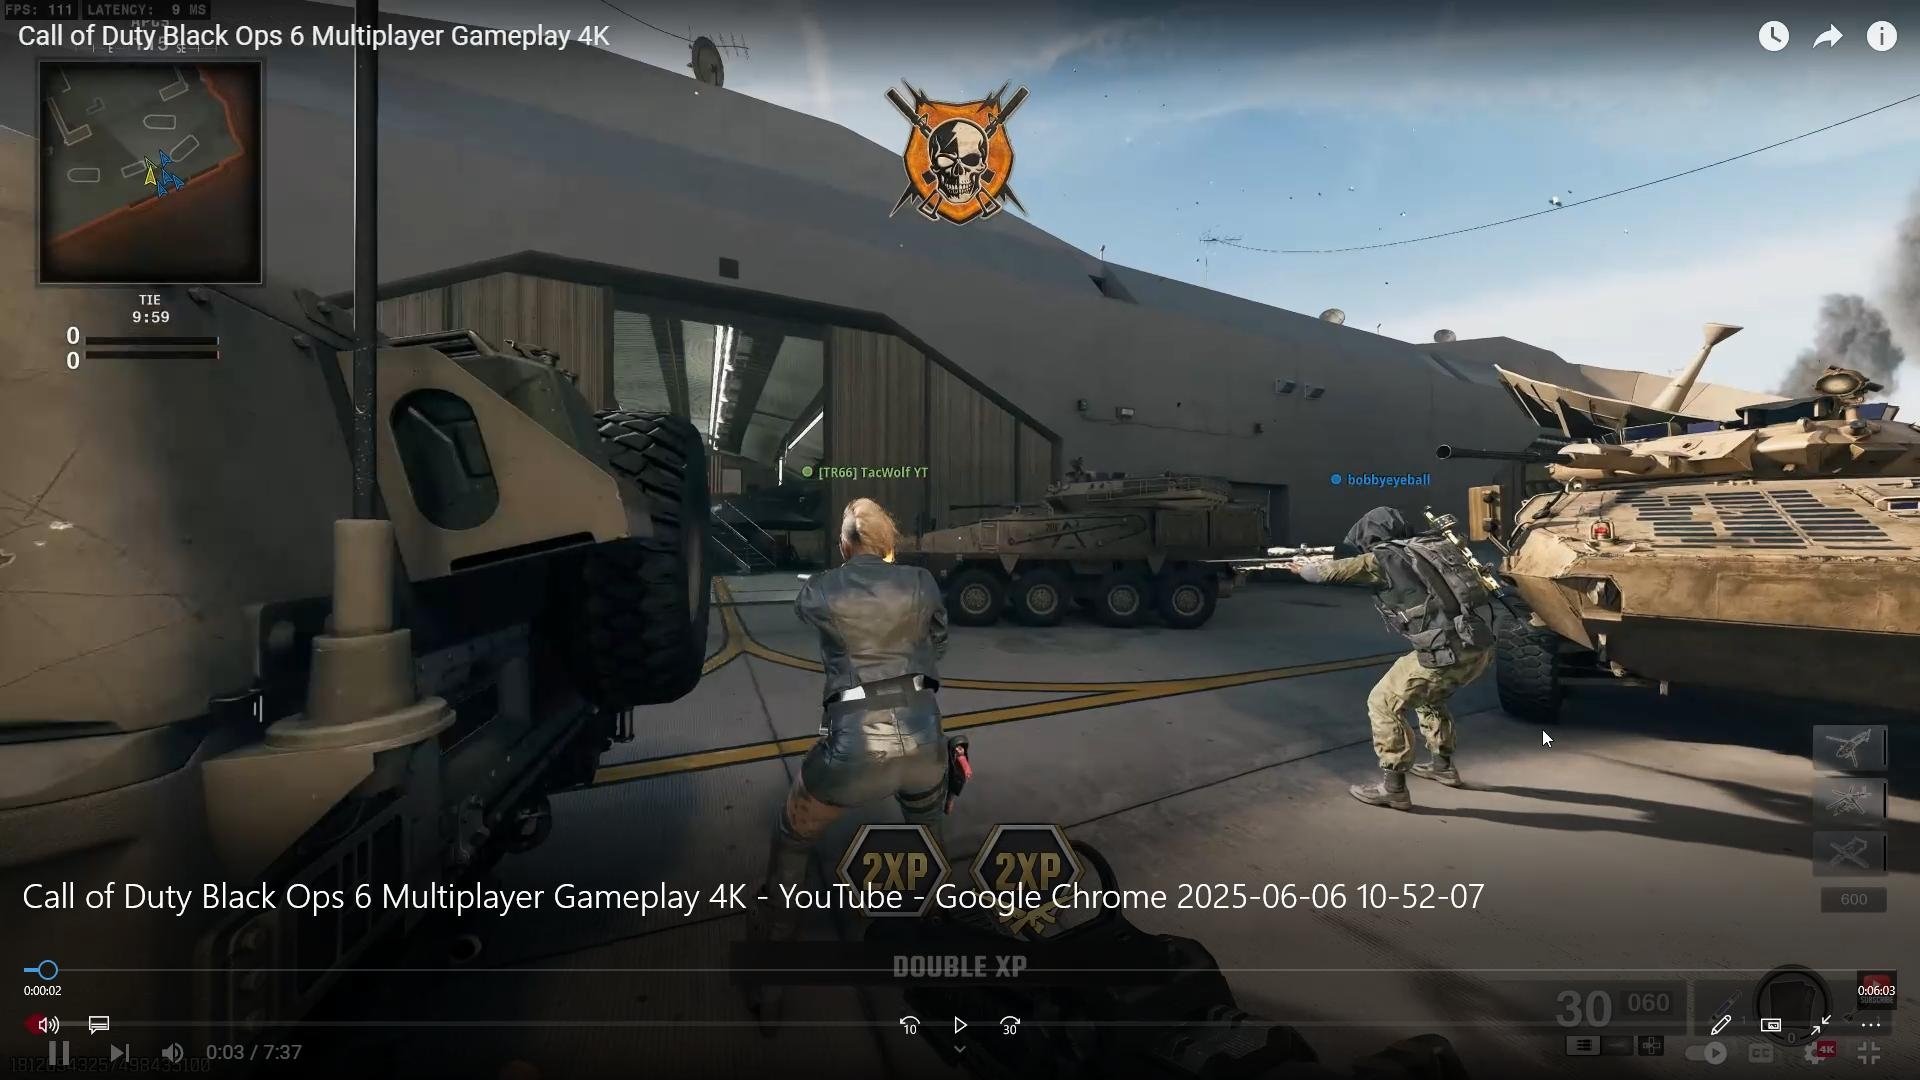Enemy: (1215, 487, 1516, 835), (760, 496, 1027, 799)
